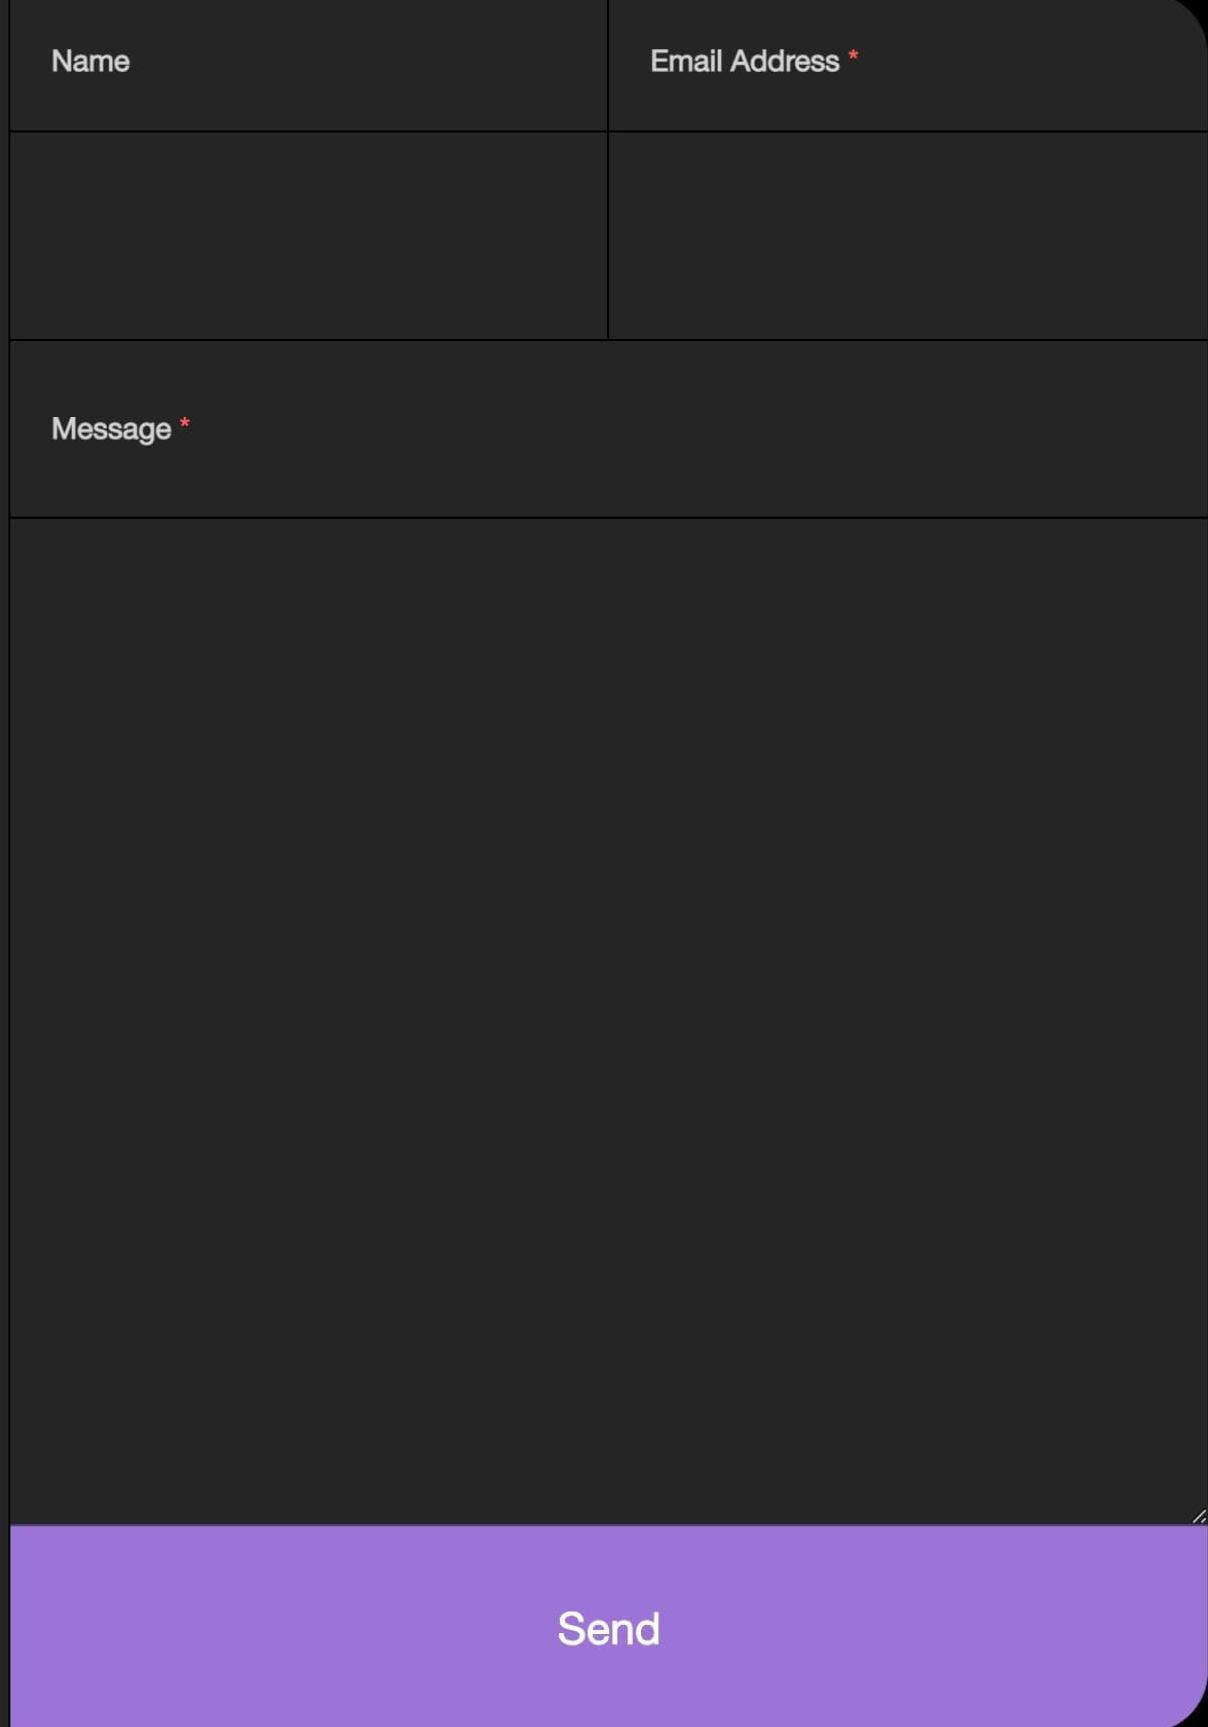button: (9, 1531, 1208, 1724)
input: (616, 135, 1208, 349), (13, 134, 610, 344)
